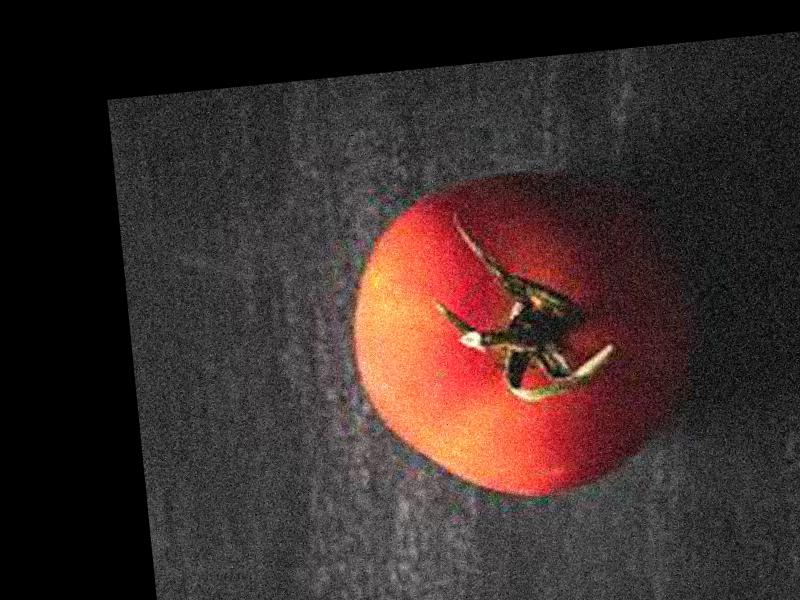Tomato: (338, 162, 703, 511)
